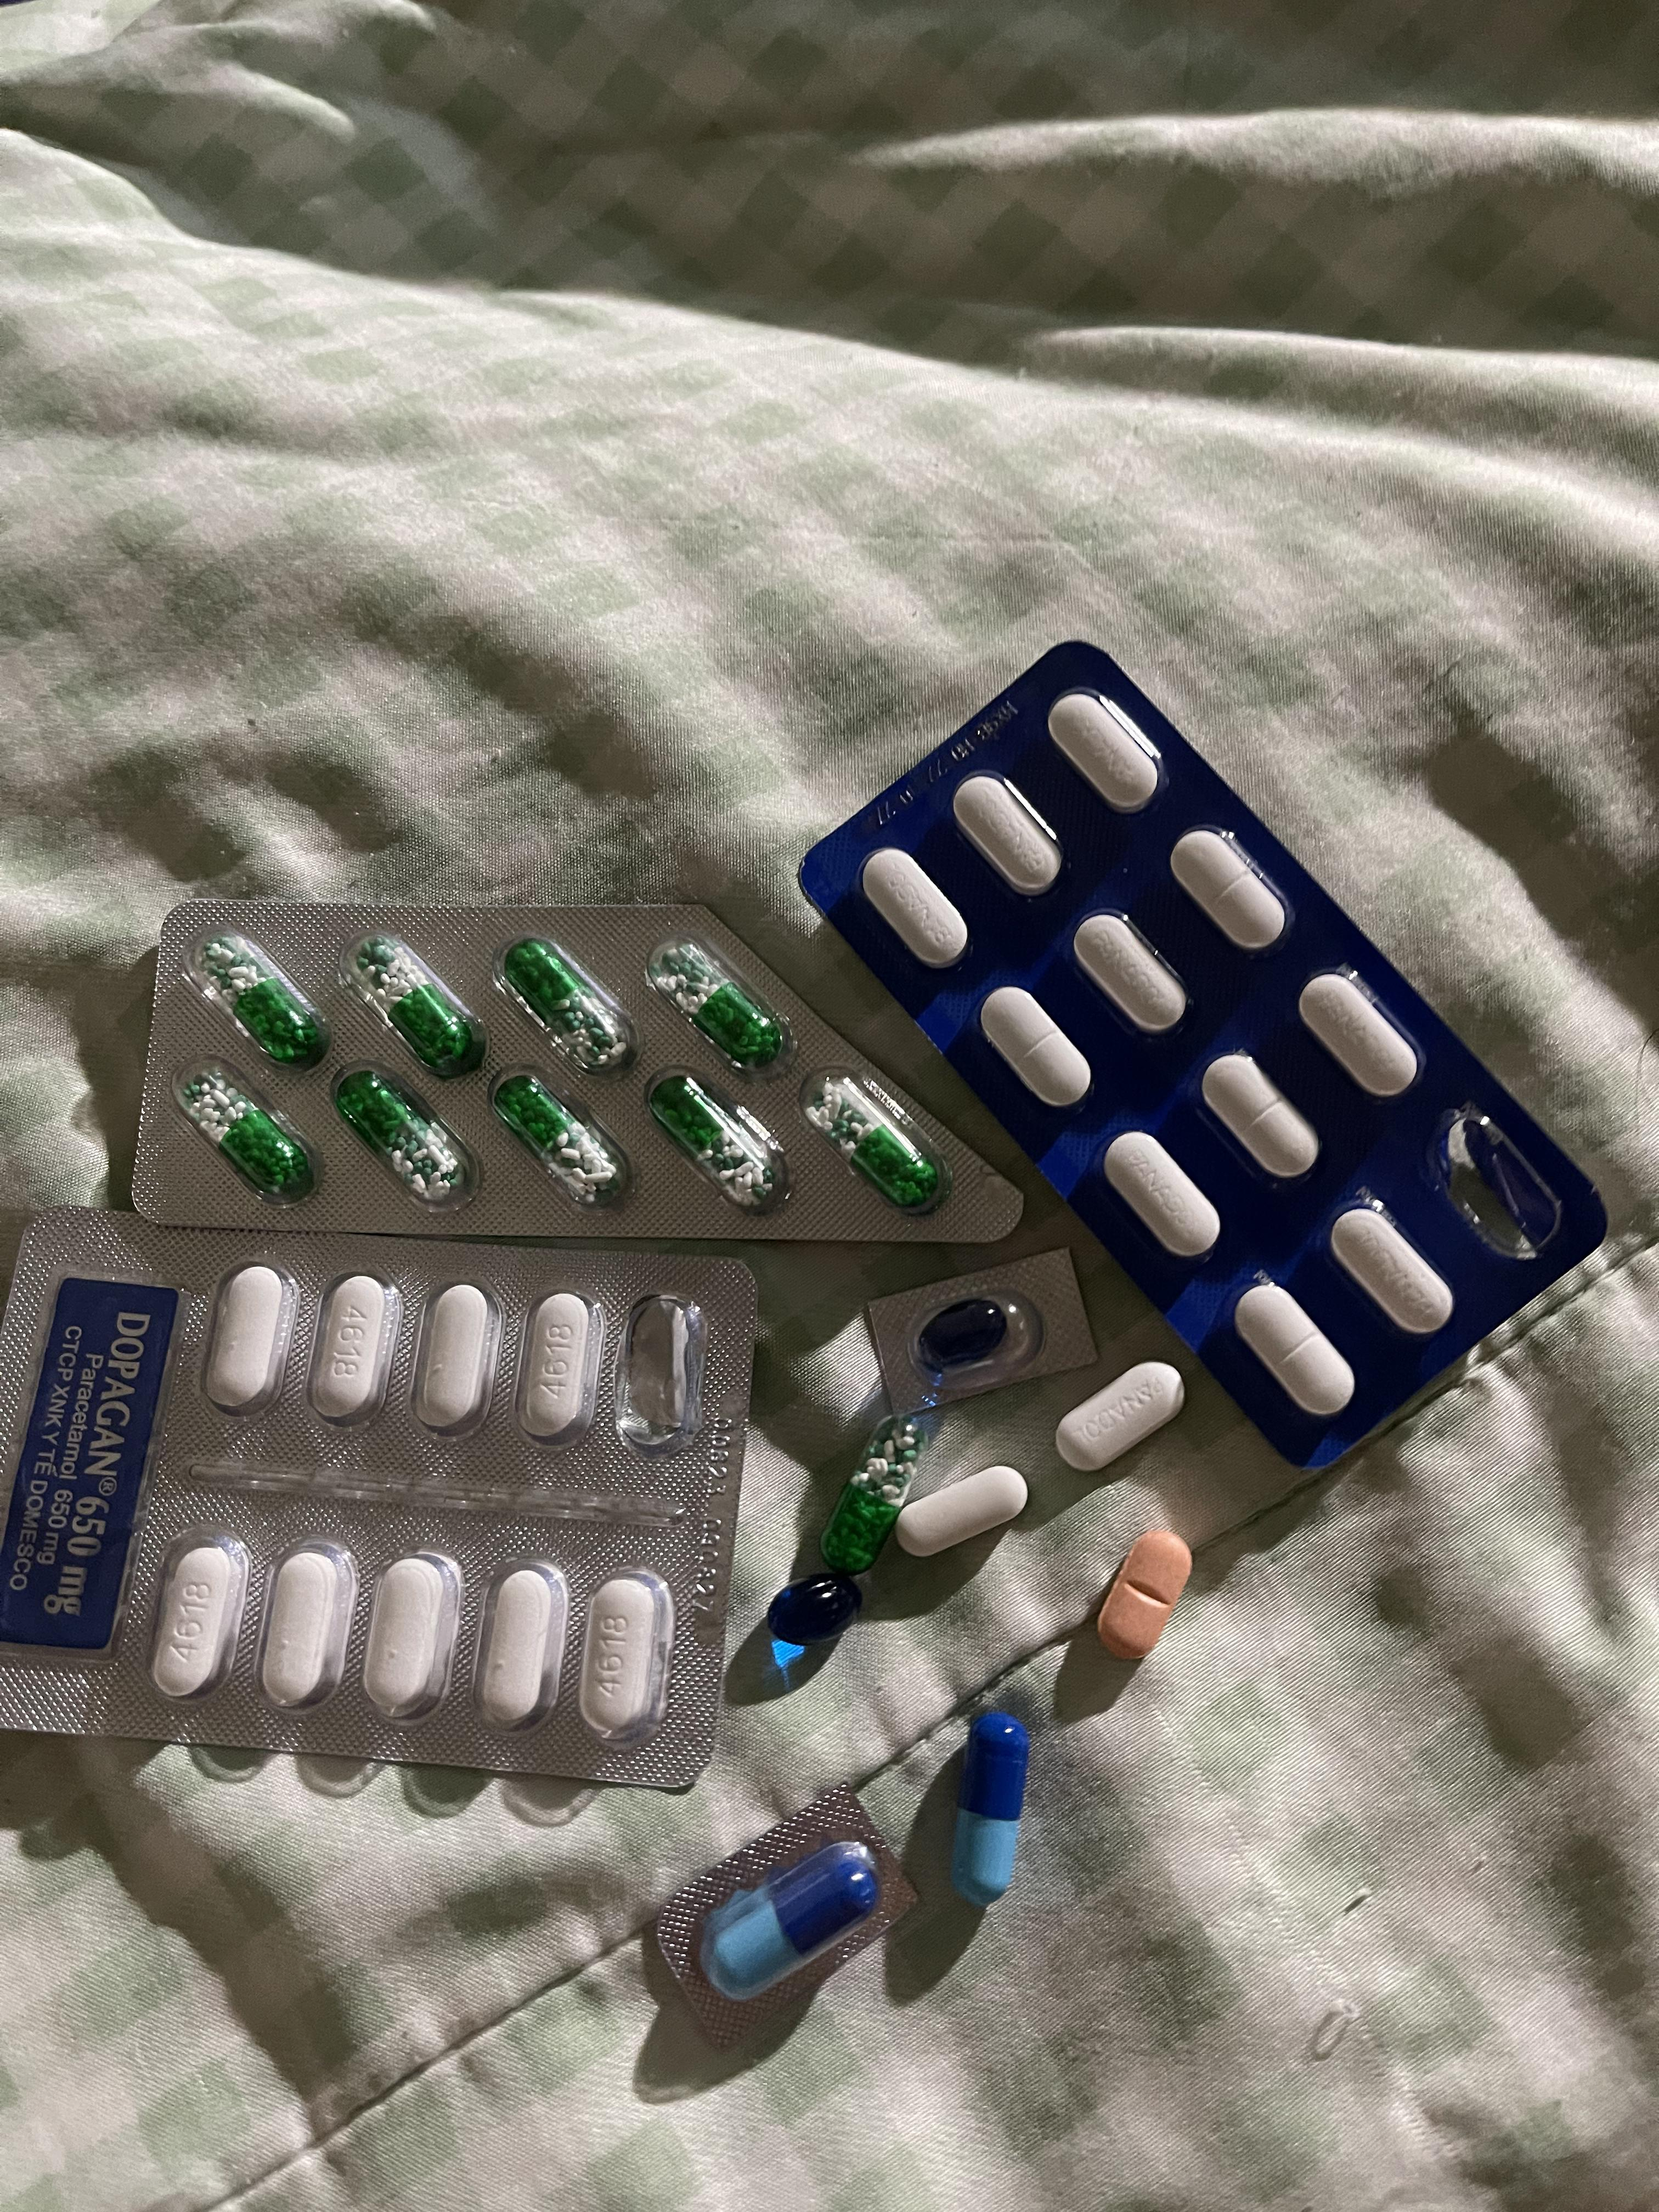Lincomyxin_500mg: (767, 1575, 863, 1649), (918, 1298, 1011, 1372)
Loratadine_10mg: (1105, 1527, 1197, 1651)
Paracetamol_350mg: (1328, 1204, 1457, 1338), (1300, 970, 1425, 1099), (1234, 1282, 1354, 1416), (1201, 1054, 1319, 1183), (1103, 1130, 1218, 1259), (1169, 829, 1288, 951), (1073, 913, 1190, 1035), (1049, 690, 1164, 813), (953, 772, 1065, 899), (1054, 1362, 1183, 1472), (861, 848, 969, 970), (981, 988, 1087, 1108)
Paracetamol_500mg: (361, 1552, 462, 1724), (260, 1538, 359, 1712), (474, 1557, 568, 1733), (579, 1571, 671, 1743), (150, 1533, 246, 1696), (512, 1291, 601, 1444), (307, 1273, 397, 1423), (204, 1263, 295, 1413), (411, 1284, 497, 1432), (892, 1467, 1028, 1559)
Paracetamol_650mg: (491, 1064, 636, 1212), (645, 1066, 782, 1217), (810, 1078, 939, 1212), (826, 1407, 938, 1562), (354, 937, 479, 1071), (181, 1069, 312, 1197), (653, 942, 784, 1068), (336, 1073, 464, 1200), (504, 942, 627, 1068), (199, 939, 317, 1061)
pill: (702, 1843, 868, 1998), (951, 1710, 1032, 1904)
